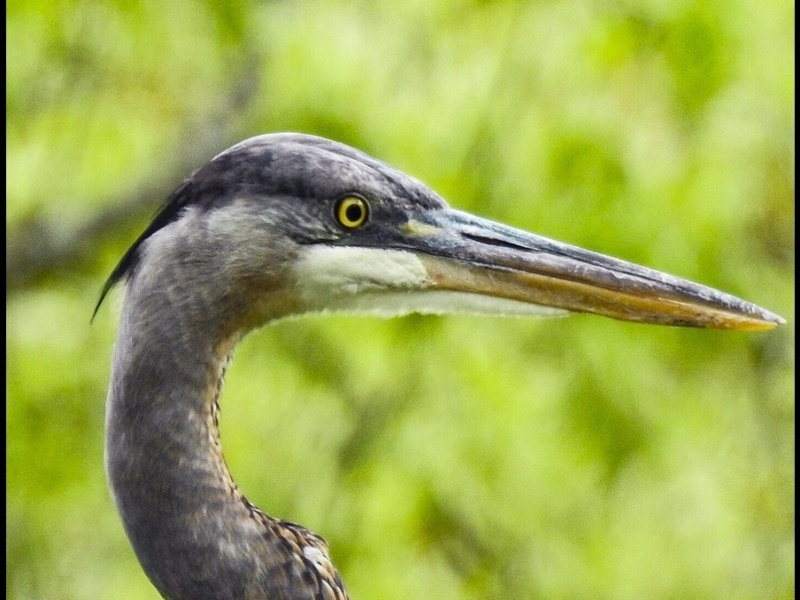heron: (97, 123, 775, 577)
